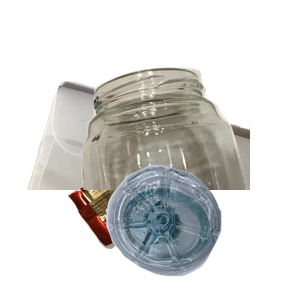glass: (74, 65, 300, 245)
paper: (25, 79, 265, 259)
plastic: (104, 163, 300, 300)
trash: (65, 148, 258, 300)
